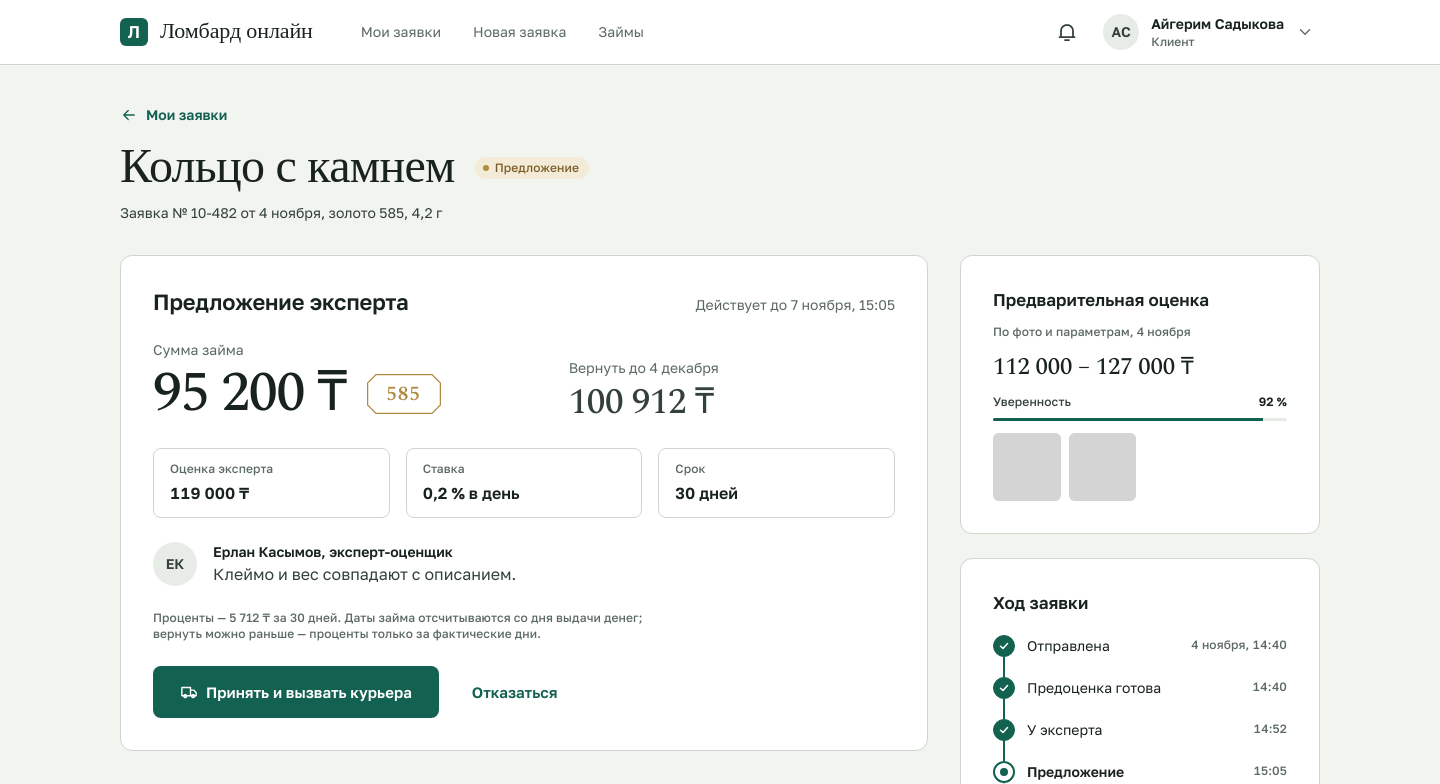
it: Application card › declines the offer with a reason
Step 1. Click the button "Отказаться" → (515, 692), box [463,670,567,714]
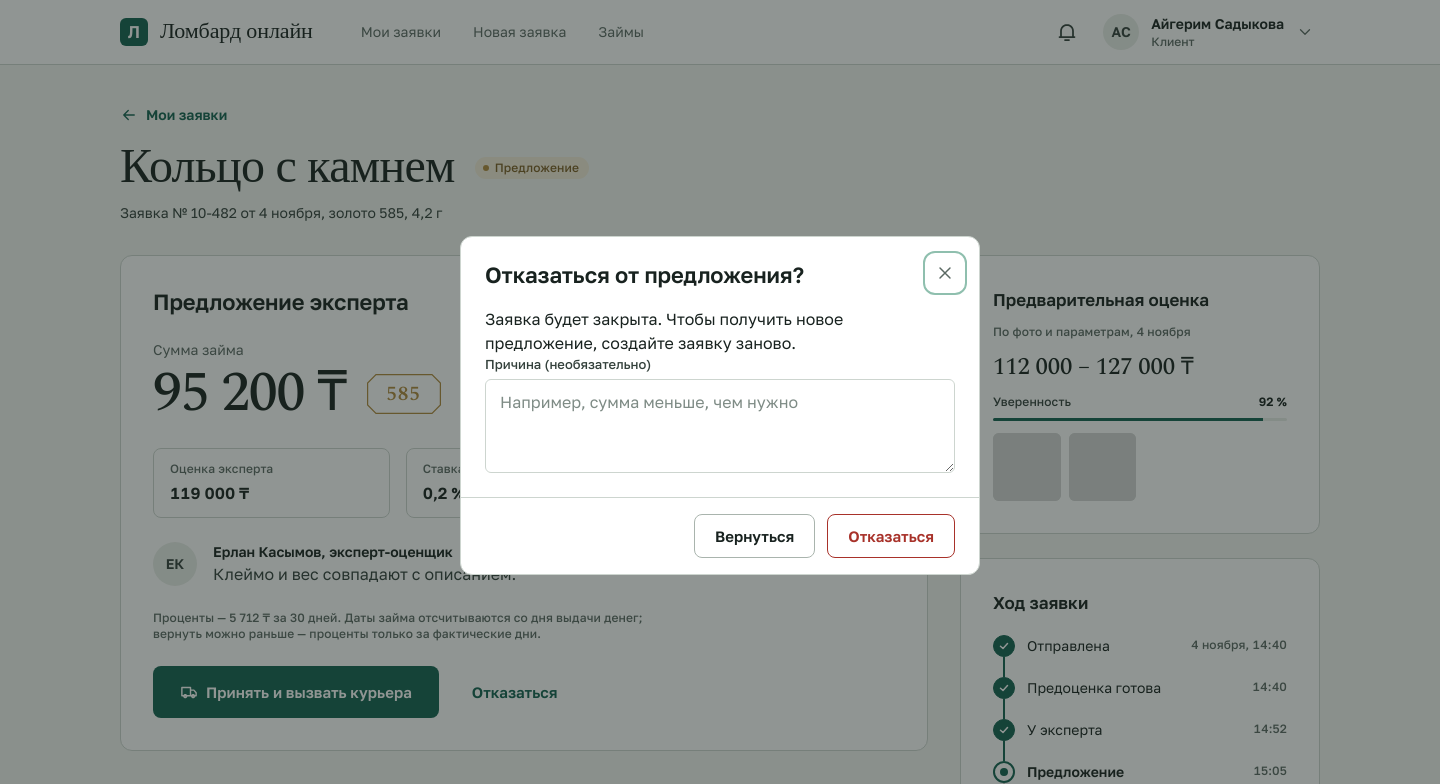
Step 2. Type "Мало" into the text box labelled "Причина (необязательно)" → (720, 426), box [485,378,955,472]
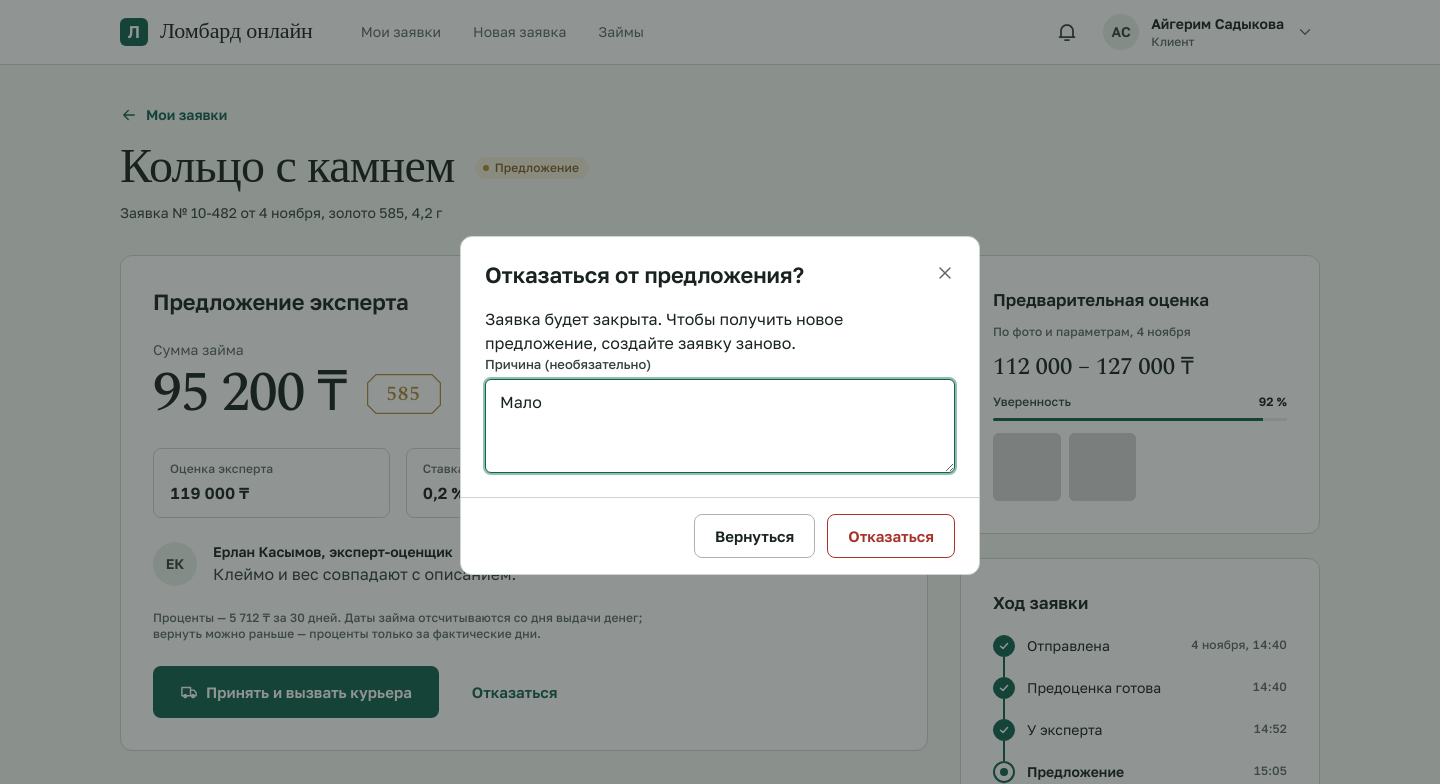
Step 3. Click the button "Отказаться" → (891, 536), box [827,514,955,558]
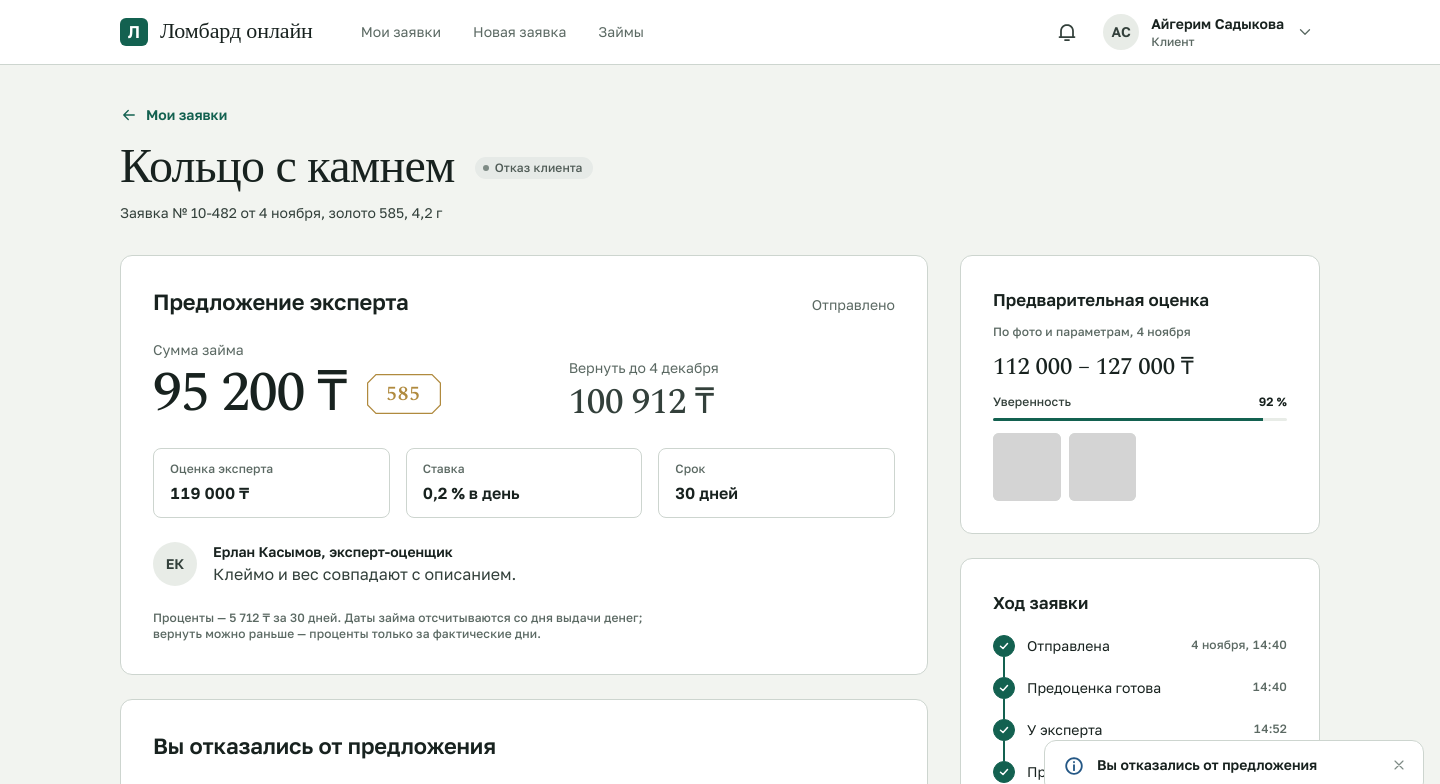
expect the heading "Вы отказались от предложения" is shown: met, box [153,732,496,760]
